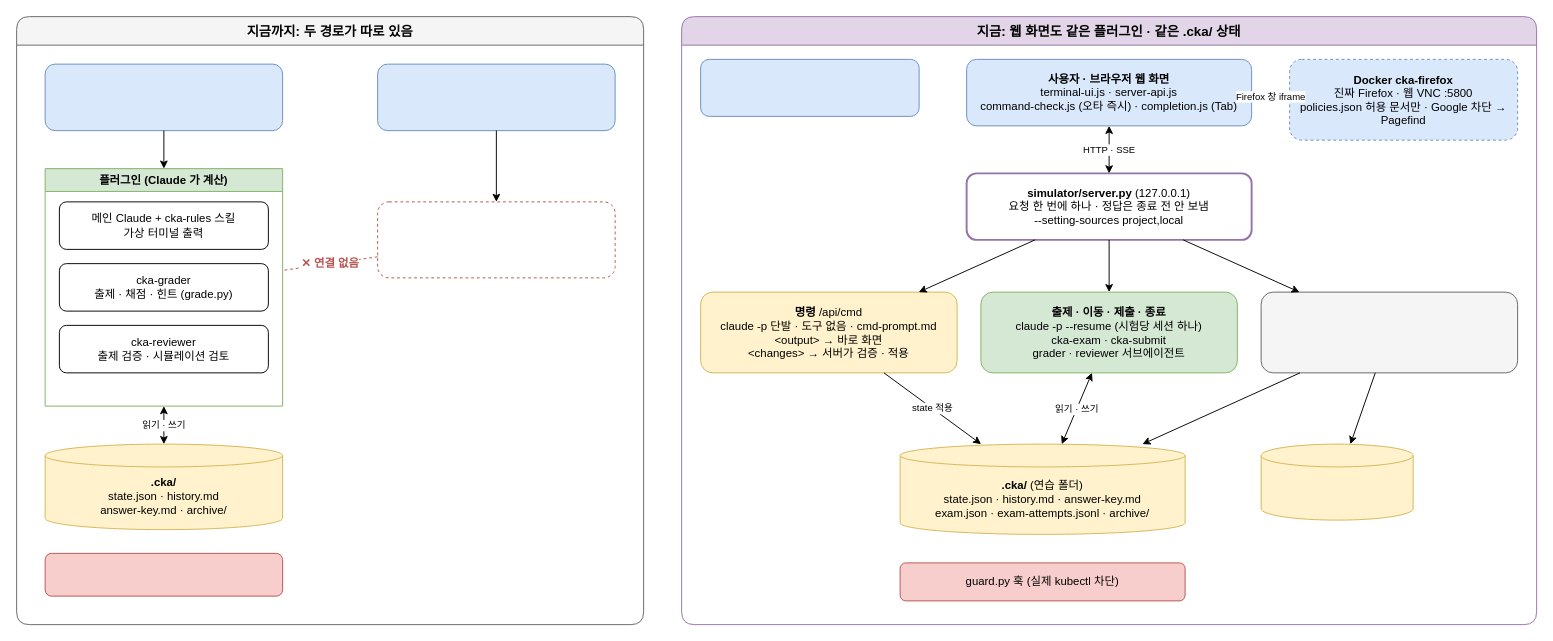
Some shapes in this 1553 by 641 pixel diagram are drawn without their labels. Here are the shapes that lost their labels. From the top down, the centre of each, then its label:
At point 163,97: "사용자 Claude Code 터미널 /ai-k8s-make-believe:cka-load · $ kubectl …".
At point 496,97: "사용자 브라우저 웹 화면 simulator/static (정적 서버)".
At point 809,87: "Claude Code 터미널 (그대로) 같은 플러그인 · 같은 .cka/ 를 직접 사용".
At point 496,239: "mock-api.js · mock-shell.js 고정 출력 · 상태 없음 create 해도 get 에 안 보임".
At point 1389,332: "파일 직접 읽기 (Claude 없음) 목록 · 원문 · 차시 기록 Tab 자동완성 (/api/complete)".
At point 1336,481: "exams/ 문제 · 풀이 · 환경 md".
At point 163,574: "guard.py 훅 실제 kubectl 실행 차단".
